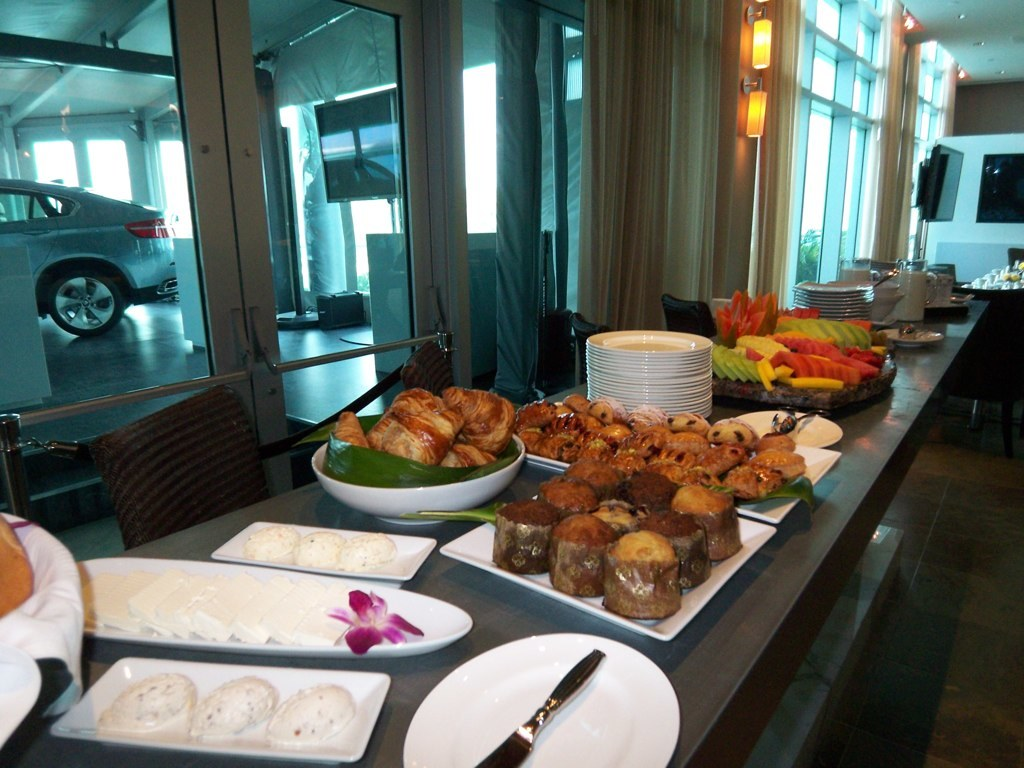Car: (1, 159, 174, 354)
